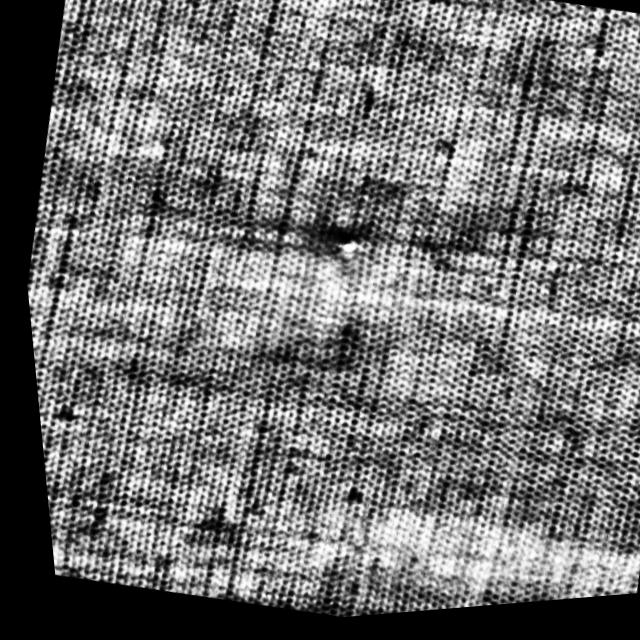Hole: (312, 225, 362, 268)
